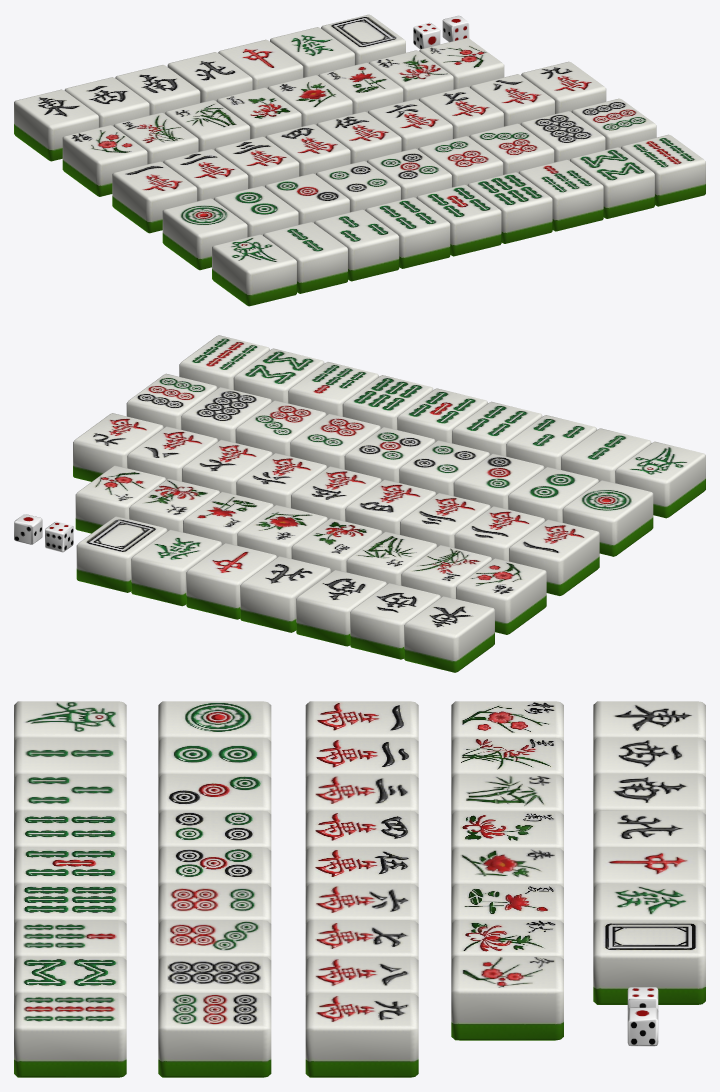
3 views of the same model, one above another, from view 1: azimuth 30°, elevation 25°; view 2: azimuth 150°, elevation 25°; view 3: azimuth 270°, elevation 25° (orthographic). The views are drawn at different scales.
Visible parts, largest first — view 1: huitugou_5180_19, huitugou_5180_01, huitugou_5180_25, huitugou_5180_13, huitugou_5180_37, huitugou_5180_21, huitugou_5180_24, huitugou_5180_03, huitugou_5180_23, huitugou_5180_02, huitugou_5180_22, huitugou_5180_20 (+32 smaller); view 2: huitugou_5180_37, huitugou_5180_13, huitugou_5180_01, huitugou_5180_19, huitugou_5180_25, huitugou_5180_38, huitugou_5180_34, huitugou_5180_39, huitugou_5180_36, huitugou_5180_33, huitugou_5180_35, huitugou_5180_40 (+32 smaller); view 3: huitugou_5180_40, huitugou_5180_41, huitugou_5180_42, huitugou_5180_26, huitugou_5180_39, huitugou_5180_06, huitugou_5180_04, huitugou_5180_33, huitugou_5180_27, huitugou_5180_28, huitugou_5180_20, huitugou_5180_12 (+32 smaller).
Part boxes in pixels (left/top/right/bottom): huitugou_5180_19: left=212, top=234, right=296, bottom=306; huitugou_5180_01: left=112, top=161, right=197, bottom=233; huitugou_5180_25: left=62, top=125, right=147, bottom=196; huitugou_5180_13: left=162, top=198, right=247, bottom=270; huitugou_5180_37: left=14, top=89, right=98, bottom=161; huitugou_5180_21: left=314, top=209, right=399, bottom=281; huitugou_5180_24: left=518, top=159, right=603, bottom=231; huitugou_5180_03: left=467, top=172, right=552, bottom=243; huitugou_5180_23: left=416, top=184, right=501, bottom=256; huitugou_5180_02: left=570, top=147, right=654, bottom=218; huitugou_5180_22: left=365, top=197, right=450, bottom=268; huitugou_5180_20: left=263, top=222, right=347, bottom=293; huitugou_5180_37: left=404, top=596, right=494, bottom=672; huitugou_5180_13: left=562, top=480, right=653, bottom=556; huitugou_5180_01: left=509, top=519, right=599, bottom=595; huitugou_5180_19: left=615, top=441, right=705, bottom=518; huitugou_5180_25: left=456, top=558, right=546, bottom=634; huitugou_5180_38: left=240, top=556, right=330, bottom=632; huitugou_5180_34: left=131, top=529, right=221, bottom=606; huitugou_5180_39: left=76, top=516, right=167, bottom=592; huitugou_5180_36: left=350, top=583, right=440, bottom=659; huitugou_5180_33: left=296, top=569, right=386, bottom=646; huitugou_5180_35: left=186, top=543, right=276, bottom=619; huitugou_5180_40: left=73, top=413, right=163, bottom=481; huitugou_5180_40: left=305, top=993, right=418, bottom=1077; huitugou_5180_41: left=158, top=993, right=271, bottom=1077; huitugou_5180_42: left=14, top=993, right=126, bottom=1077; huitugou_5180_26: left=451, top=956, right=563, bottom=1040; huitugou_5180_39: left=593, top=920, right=705, bottom=1004; huitugou_5180_06: left=305, top=737, right=418, bottom=777; huitugou_5180_04: left=158, top=737, right=271, bottom=777; huitugou_5180_33: left=593, top=773, right=705, bottom=814; huitugou_5180_27: left=451, top=774, right=563, bottom=814; huitugou_5180_28: left=451, top=737, right=563, bottom=777; huitugou_5180_20: left=14, top=737, right=126, bottom=777; huitugou_5180_12: left=305, top=956, right=418, bottom=996.
Bounding box in the file's own units: 60.98 × 4.56 × 54.4.
